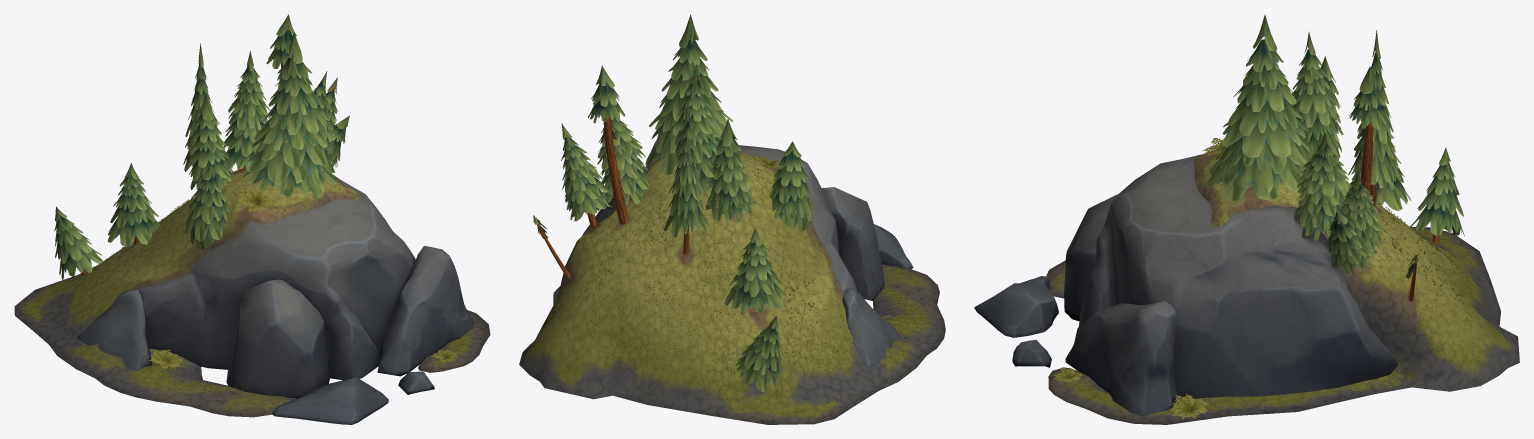
File: Pine_island.fbx
3 views of the same model, side by side, from view 1: azimuth 30°, elevation 25°; view 2: azimuth 150°, elevation 25°; view 3: azimuth 270°, elevation 25° (orthographic). The views are drawn at different scales.
Visible parts, largest first — view 1: island; view 2: island; view 3: island.
Boxes of the visible parts, x1,y1,x2,y2 form: island: (14,14,490,424); island: (519,14,945,424); island: (974,14,1519,424).
Size of what is drawn, in the model's own units: 470 by 370 by 534.
